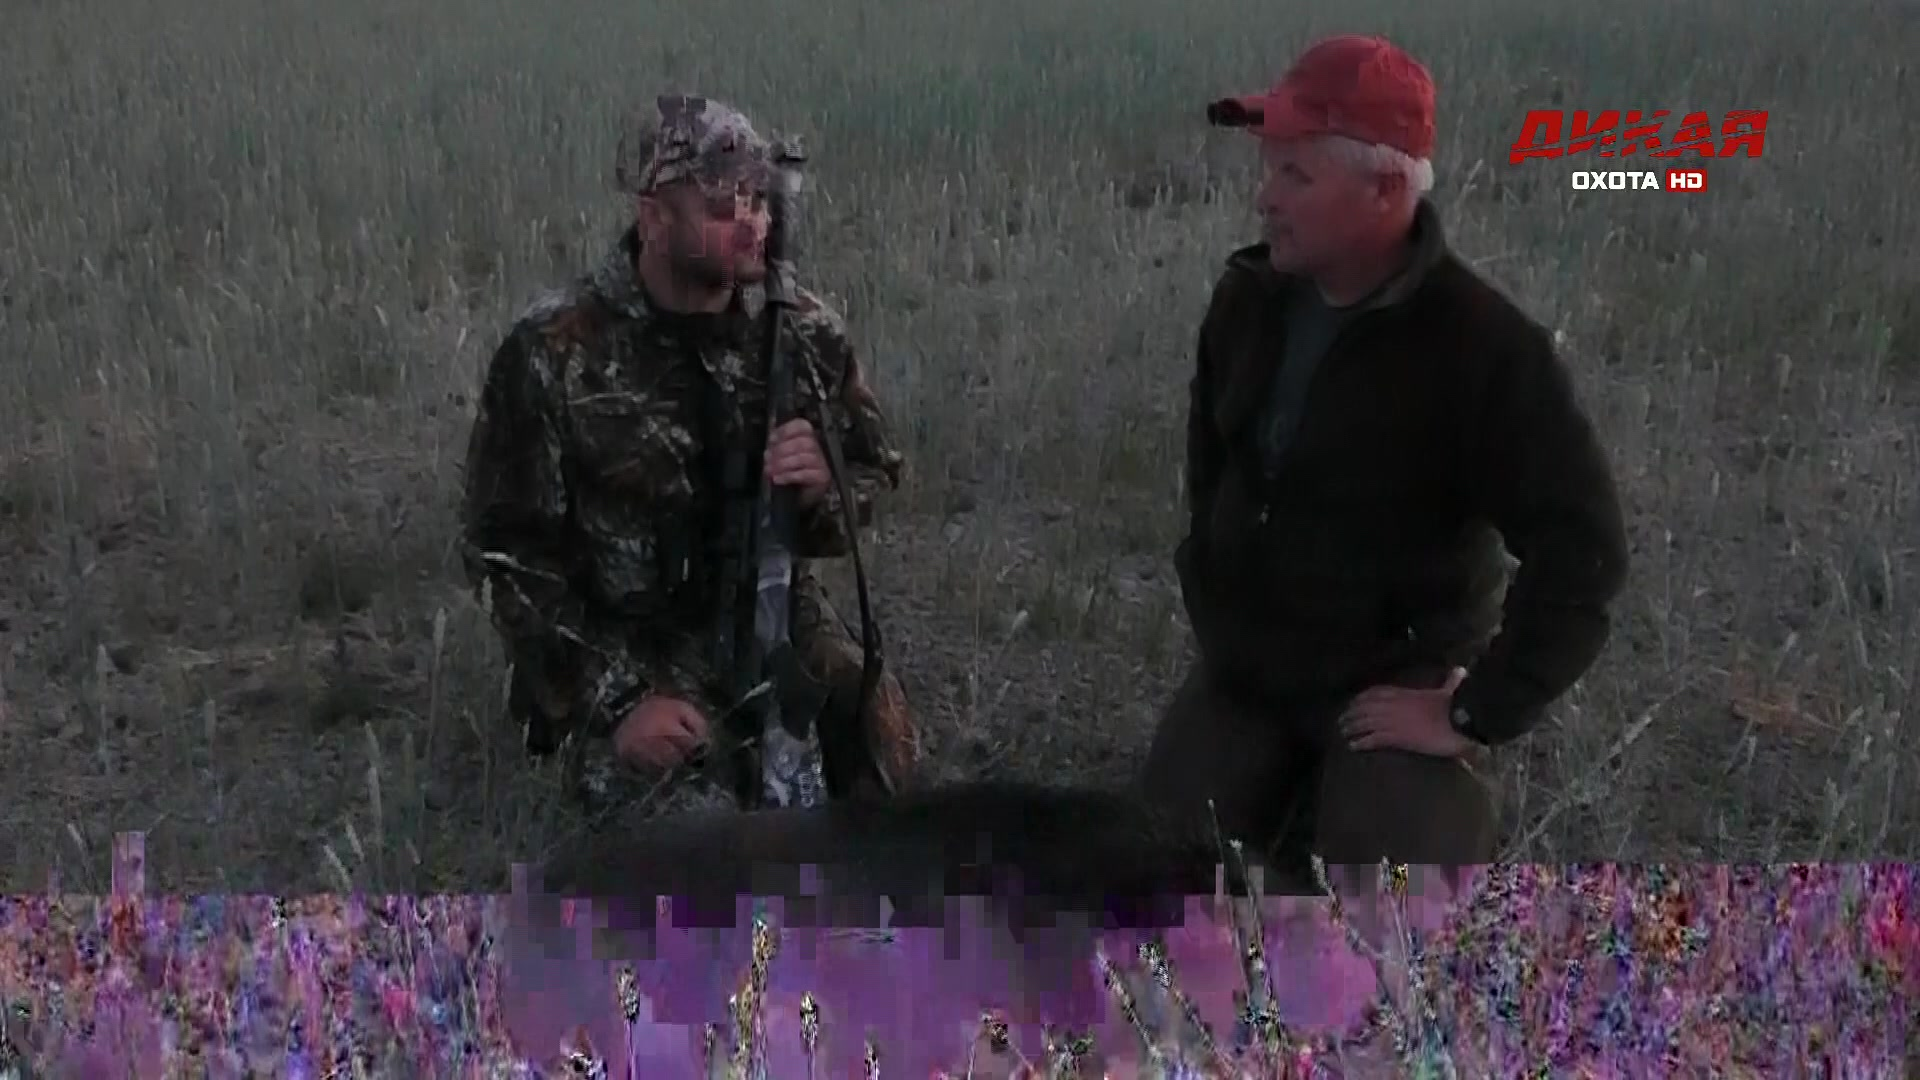Dikaya_Ohota_HD: (1507, 105, 1774, 199)
